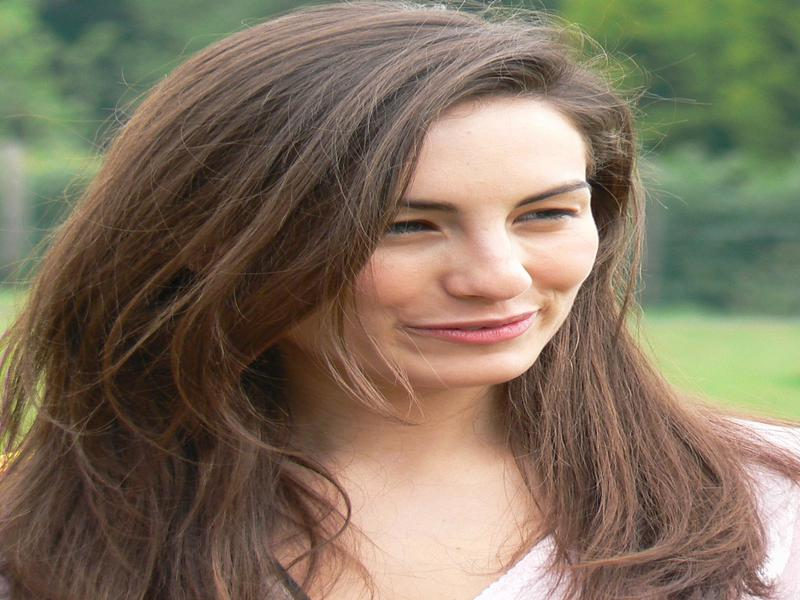person: (1, 7, 791, 595)
